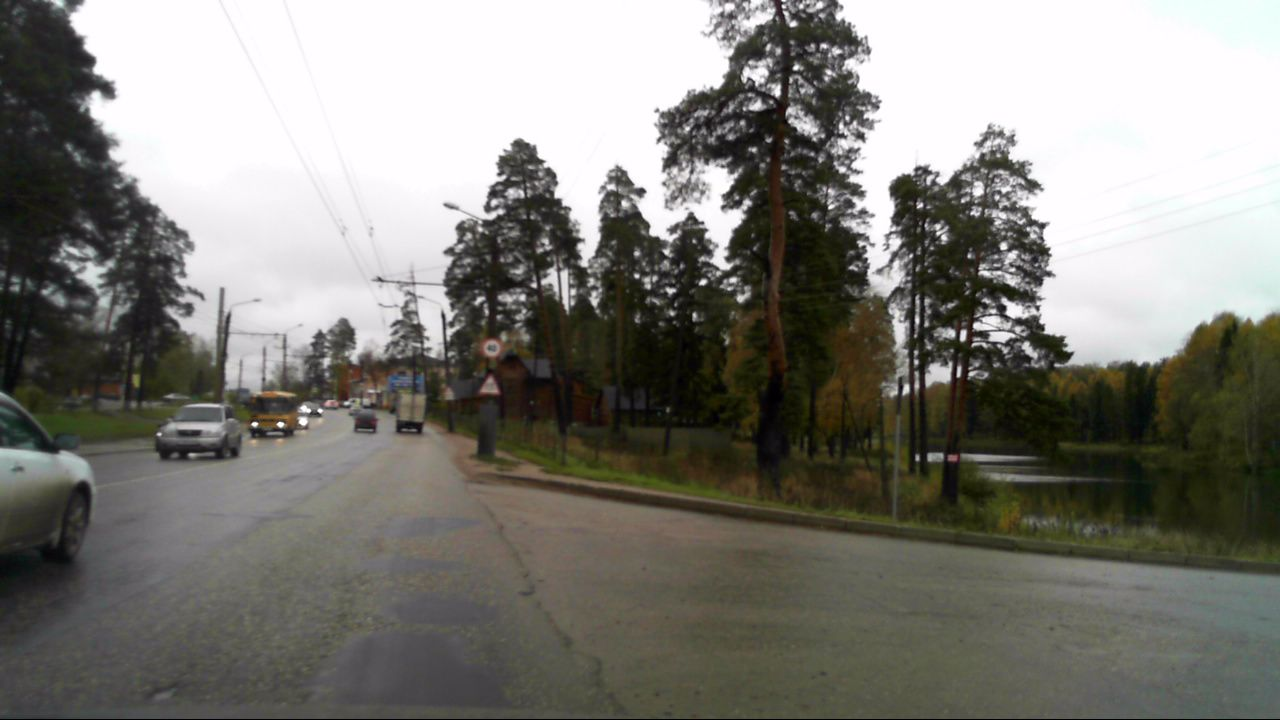speed_warning_40: (480, 336, 502, 360)
